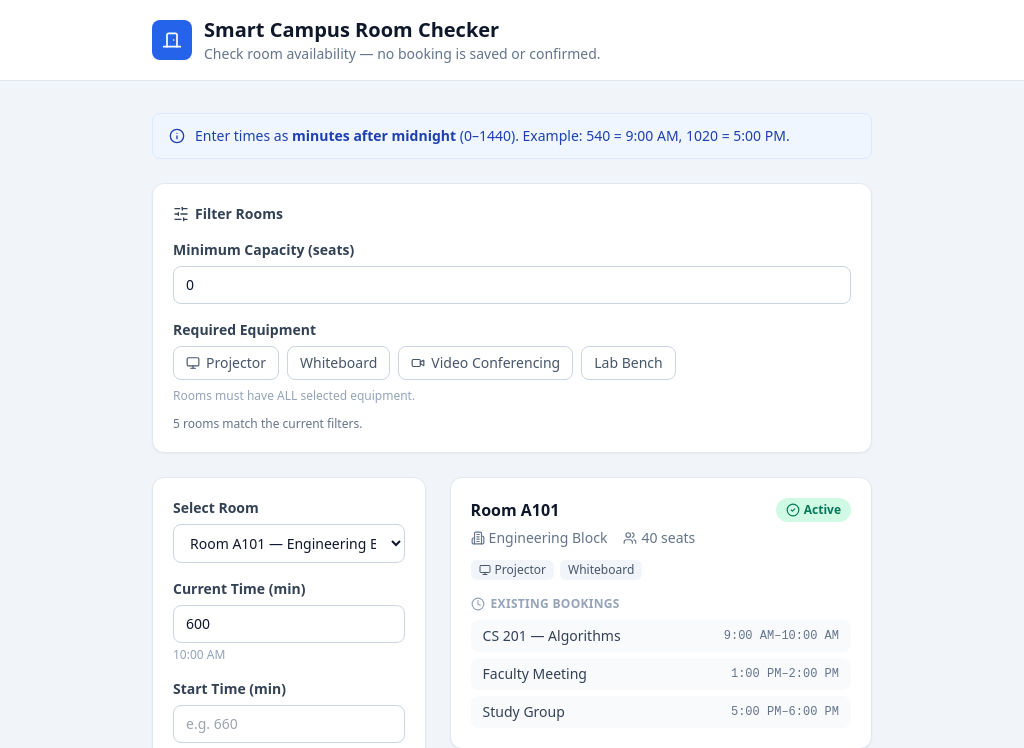
App — Integration / UI behavior tests (F4, F5) › F5-BOOKINGS-UPDATE: switching rooms shows the new room bookings list
Select "Room D410 — Business Tower" in the dropdown labelled "Select Room" at (289, 544), box x1=173 y1=524 x2=405 y2=563
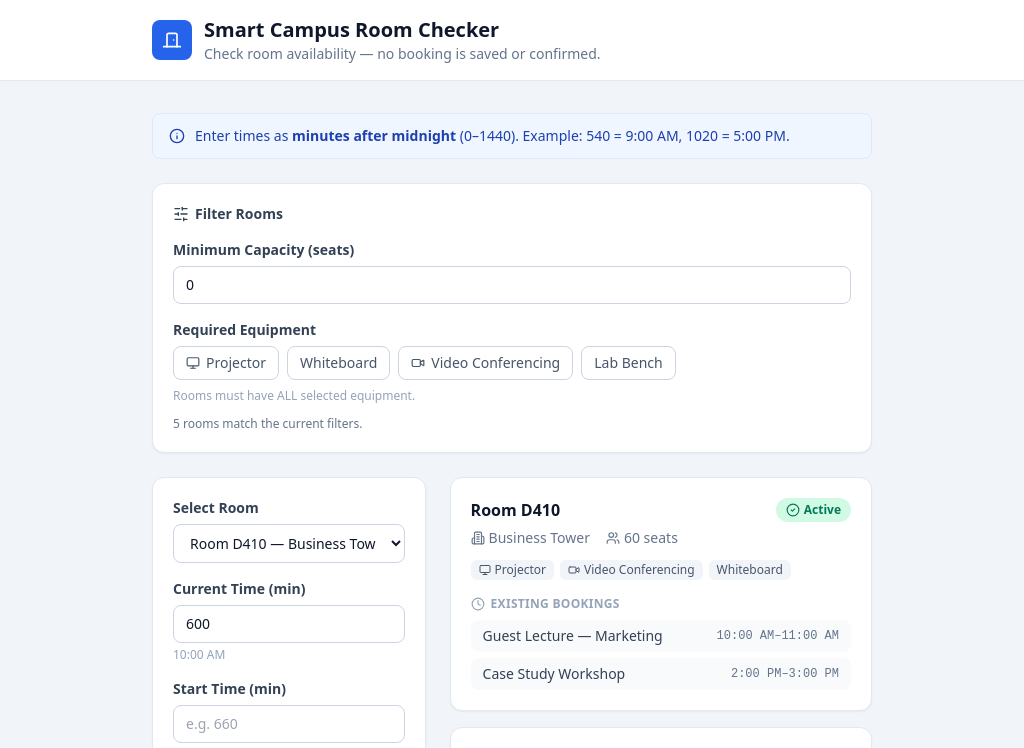
Now the text "CS 201 — Algorithms" is gone
